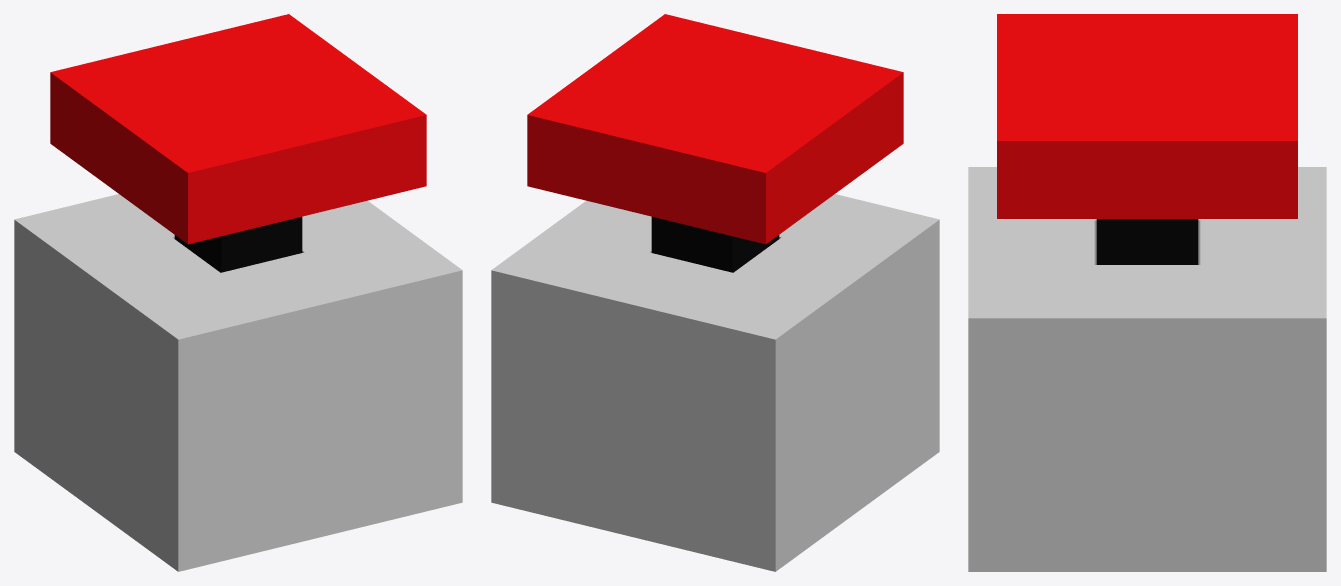
File: Buton.fbx
The picture shows the model from 3 angles, left to right: view 1: azimuth 30°, elevation 25°; view 2: azimuth 150°, elevation 25°; view 3: azimuth 270°, elevation 25°; orthographic projection. The views are drawn at different scales.
Parts seen in each view (by area): view 1: Cube, Cube.001; view 2: Cube, Cube.001; view 3: Cube, Cube.001.
Part boxes in pixels (box(x1,y1,x2,y2)): Cube: box(14, 194, 462, 571); Cube.001: box(50, 14, 426, 272); Cube: box(491, 194, 939, 571); Cube.001: box(527, 14, 903, 272); Cube: box(968, 167, 1326, 571); Cube.001: box(997, 14, 1297, 264).
Bounding box in the file's own units: 200 × 258 × 200.
